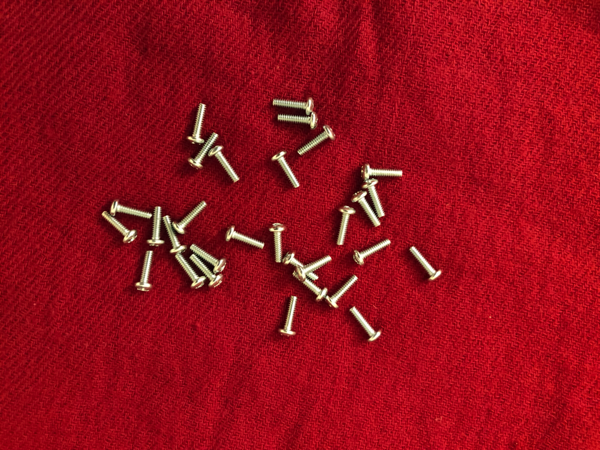shortscrew: (173, 252, 208, 292), (172, 200, 209, 236), (190, 254, 226, 290), (102, 211, 139, 246), (409, 245, 443, 283), (351, 305, 383, 345), (352, 188, 383, 229), (352, 237, 393, 268), (209, 145, 241, 184), (189, 132, 220, 172), (298, 125, 337, 156), (292, 255, 335, 283), (326, 275, 360, 310), (189, 245, 228, 275), (293, 270, 329, 302), (281, 251, 319, 281), (224, 225, 266, 252), (272, 151, 301, 190), (162, 214, 188, 255), (360, 162, 405, 185), (362, 178, 388, 217), (134, 250, 156, 294), (108, 200, 154, 221), (186, 102, 207, 147), (271, 96, 316, 117), (334, 205, 355, 248), (146, 204, 166, 249), (278, 295, 298, 338), (268, 221, 287, 265), (278, 111, 319, 131)
